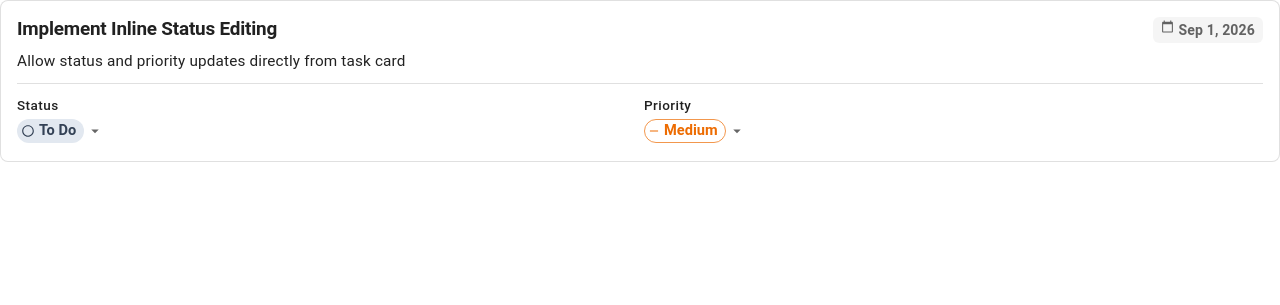
TaskCard & Inline Editing Components › Priority dropdown opens on click and displays available priority options
Click the button with aria-label "change priority for task" at (695, 131), box [644,119,746,143]
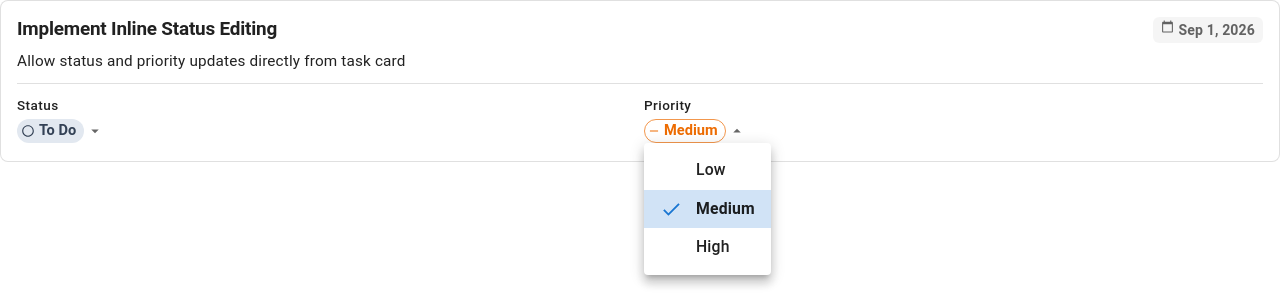
Expected: the text "Low" is shown, [696,160,726,179]
Expected: the text "High" is shown, [696,237,730,256]
